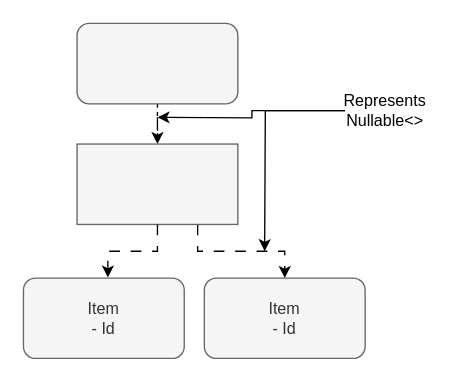
The diagram is 449 pixels wide and 382 high, and some of its shapes have lost their labels. The centre of each missing label's shape, as x and y in pixels:
"Equipment - ArmorId - WeaponId" belongs at (157,183).
"Player - EquipmentId" belongs at (157,63).
